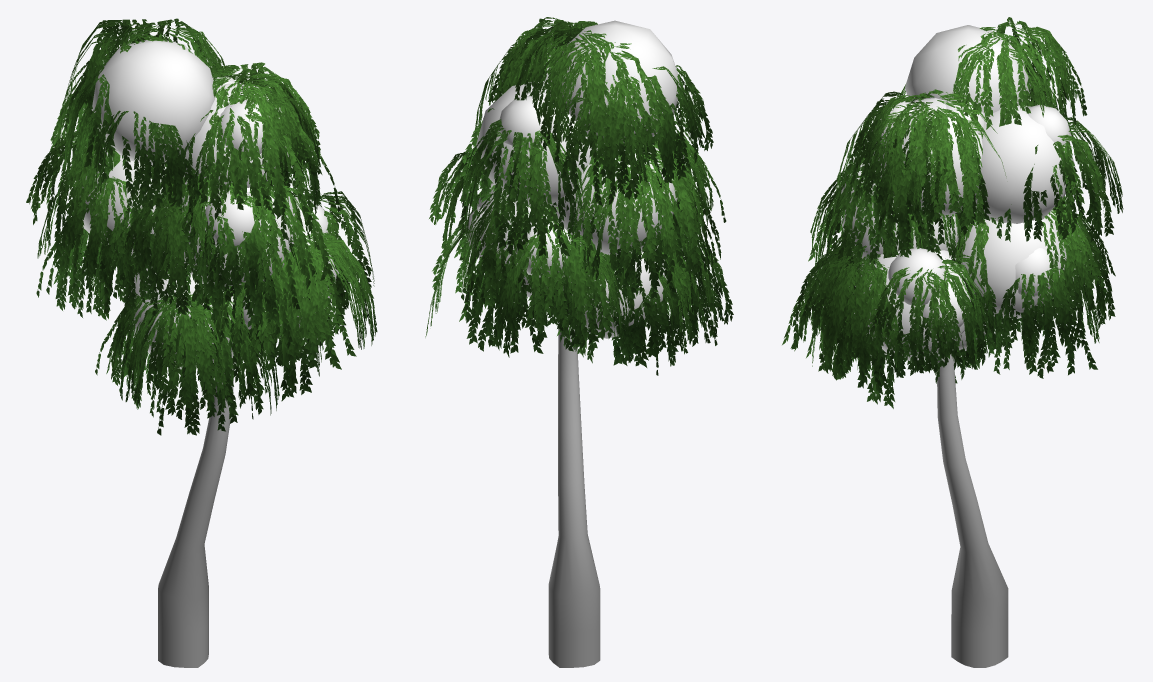
3 renders of one model, left to right at view 1: azimuth 30°, elevation 25°; view 2: azimuth 150°, elevation 25°; view 3: azimuth 270°, elevation 25°, orthographic. The views are drawn at different scales.
Parts seen in each view (by area): view 1: bj_1_s31769_leaves_LOD0, bj_1_s31769_shadow_LOD0, bj_1_s31769_trunk_LOD0; view 2: bj_1_s31769_leaves_LOD0, bj_1_s31769_shadow_LOD0, bj_1_s31769_trunk_LOD0; view 3: bj_1_s31769_leaves_LOD0, bj_1_s31769_shadow_LOD0, bj_1_s31769_trunk_LOD0.
Part boxes in pixels (box(x1,y1,x2,y2)): bj_1_s31769_leaves_LOD0: box(26, 18, 377, 435); bj_1_s31769_shadow_LOD0: box(79, 39, 339, 368); bj_1_s31769_trunk_LOD0: box(158, 350, 233, 667); bj_1_s31769_leaves_LOD0: box(425, 17, 733, 375); bj_1_s31769_shadow_LOD0: box(465, 20, 680, 338); bj_1_s31769_trunk_LOD0: box(548, 322, 600, 667); bj_1_s31769_leaves_LOD0: box(782, 17, 1123, 408); bj_1_s31769_shadow_LOD0: box(841, 25, 1074, 361); bj_1_s31769_trunk_LOD0: box(936, 349, 1008, 667).
Size of what is drawn, in the model's own units: 5.79 by 10.87 by 5.86.
